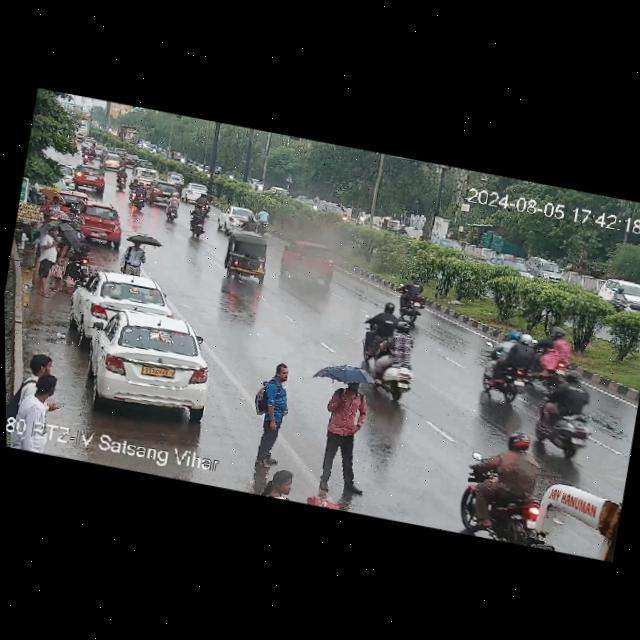bus: (522, 467, 622, 561)
car: (67, 301, 225, 422), (69, 265, 174, 338), (217, 228, 274, 286), (279, 235, 341, 287), (74, 200, 127, 243), (598, 273, 640, 313), (486, 253, 539, 280), (215, 204, 261, 234), (528, 254, 569, 286), (426, 233, 475, 258), (73, 164, 109, 192), (58, 187, 90, 213), (148, 180, 183, 200), (126, 165, 158, 186), (319, 201, 349, 221), (180, 182, 212, 198), (163, 171, 189, 187), (103, 152, 126, 170), (60, 164, 78, 186), (380, 214, 402, 231), (296, 195, 318, 209), (267, 184, 289, 198), (124, 151, 138, 166), (93, 144, 103, 158), (81, 137, 92, 148), (115, 148, 127, 157), (100, 148, 109, 160)
motorcycle: (453, 429, 547, 546), (531, 368, 602, 462), (476, 326, 551, 407), (368, 339, 420, 401), (538, 325, 576, 393), (390, 274, 434, 316), (186, 208, 214, 240), (128, 182, 154, 211), (161, 195, 184, 224), (192, 192, 218, 215), (610, 284, 630, 310), (113, 167, 132, 190), (82, 147, 91, 164), (356, 211, 366, 225), (399, 224, 409, 237), (88, 146, 96, 162), (118, 156, 127, 169), (136, 160, 143, 168), (147, 163, 154, 170), (92, 142, 96, 146)
person: (320, 377, 371, 455), (251, 358, 299, 439), (16, 352, 64, 406), (29, 224, 61, 292), (14, 383, 60, 428), (250, 465, 303, 502), (48, 229, 77, 292), (117, 237, 153, 276), (49, 194, 61, 207)
